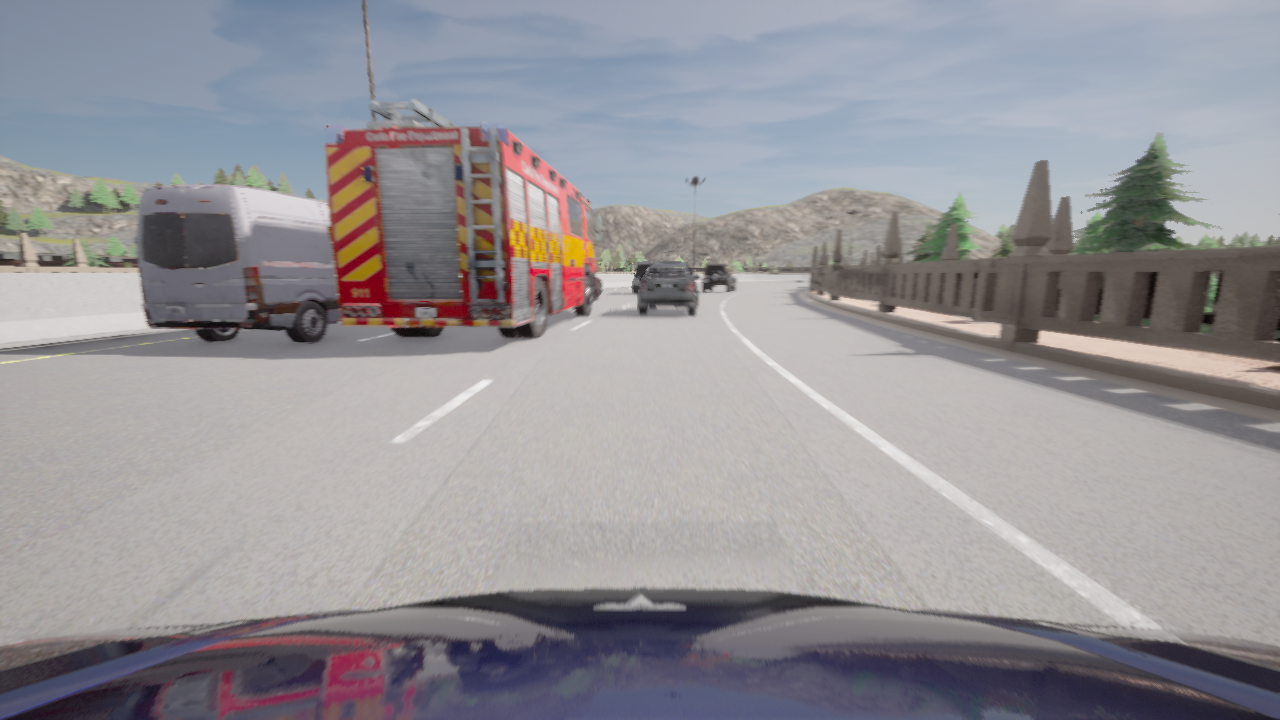cyclist: (0, 588, 1279, 719), (325, 99, 603, 338), (134, 185, 341, 342), (638, 262, 699, 315), (701, 263, 736, 292), (633, 262, 656, 293), (597, 277, 601, 293)
